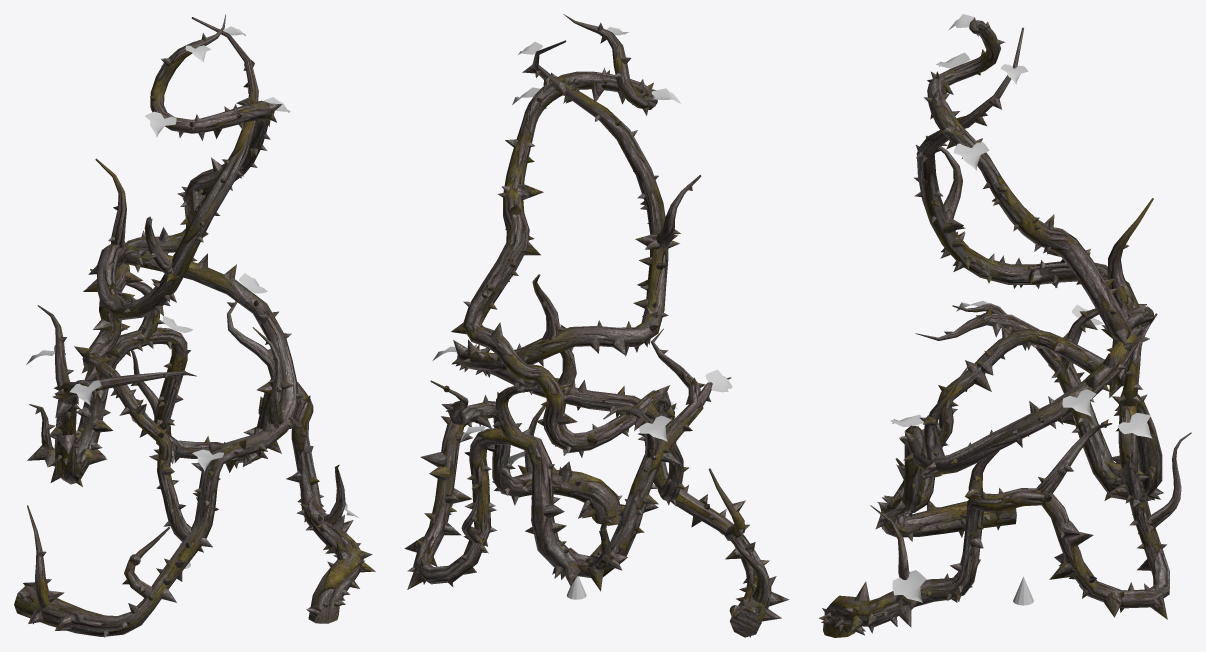
Rendered from Tower_Crystal_Plant.fbx.
3 views of the same model, side by side, from view 1: azimuth 30°, elevation 25°; view 2: azimuth 150°, elevation 25°; view 3: azimuth 270°, elevation 25° (orthographic). The views are drawn at different scales.
Visible parts, largest first — view 1: Vine; view 2: Vine; view 3: Vine.
Boxes of the visible parts, bbox=[...] form: Vine: bbox=[14, 14, 375, 637]; Vine: bbox=[404, 14, 789, 637]; Vine: bbox=[819, 14, 1191, 637].
Size of the model in its own units: 156 by 155 by 276.
